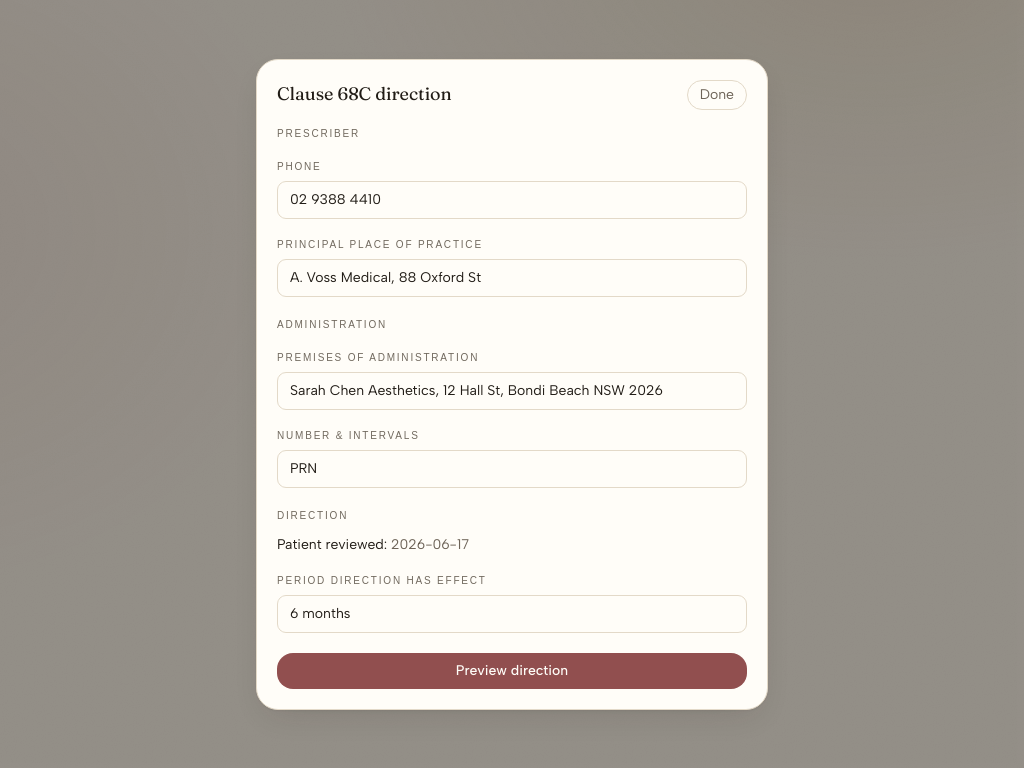
Scenario: DirectionDialog party lines › renders the names stamped on the authorisation at approval
This screenshot has width=1024, height=768.
Click the button "Preview direction". click: (512, 670)
box: [277,652,747,688]
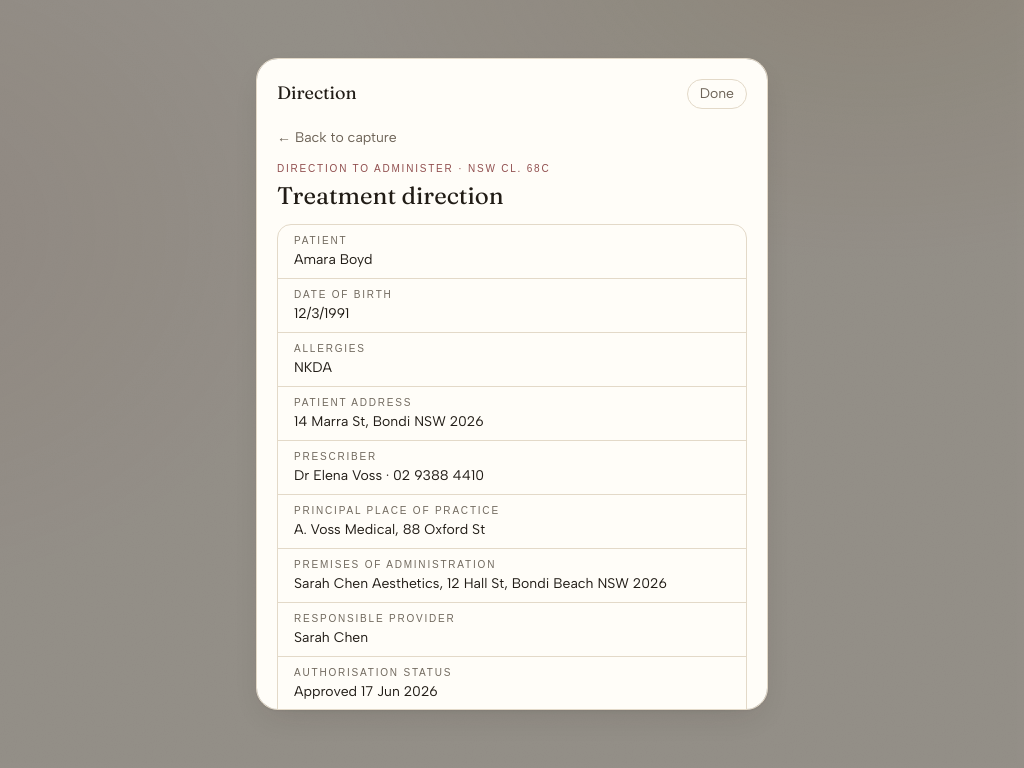
Check: the text "Dr Elena Voss · 02 9388 4410" is shown, box [294,467,484,484]
Check: the text "Sarah Chen" is shown, box [294,629,368,646]
